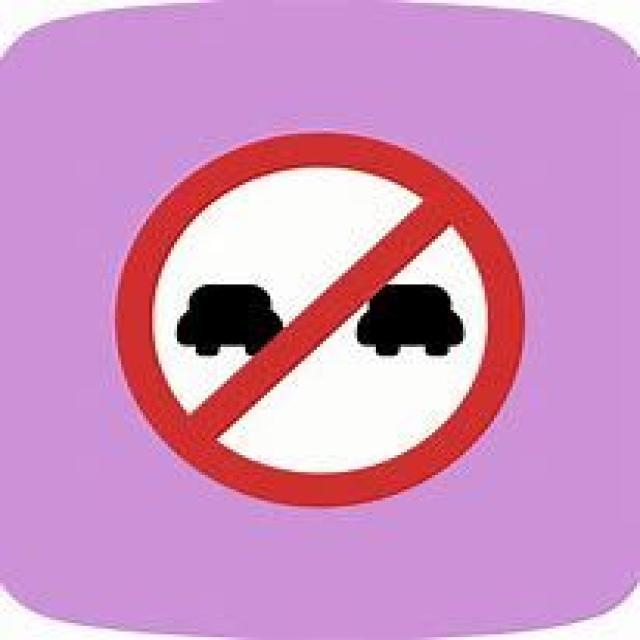overtaking prohibited: (105, 121, 537, 511)
